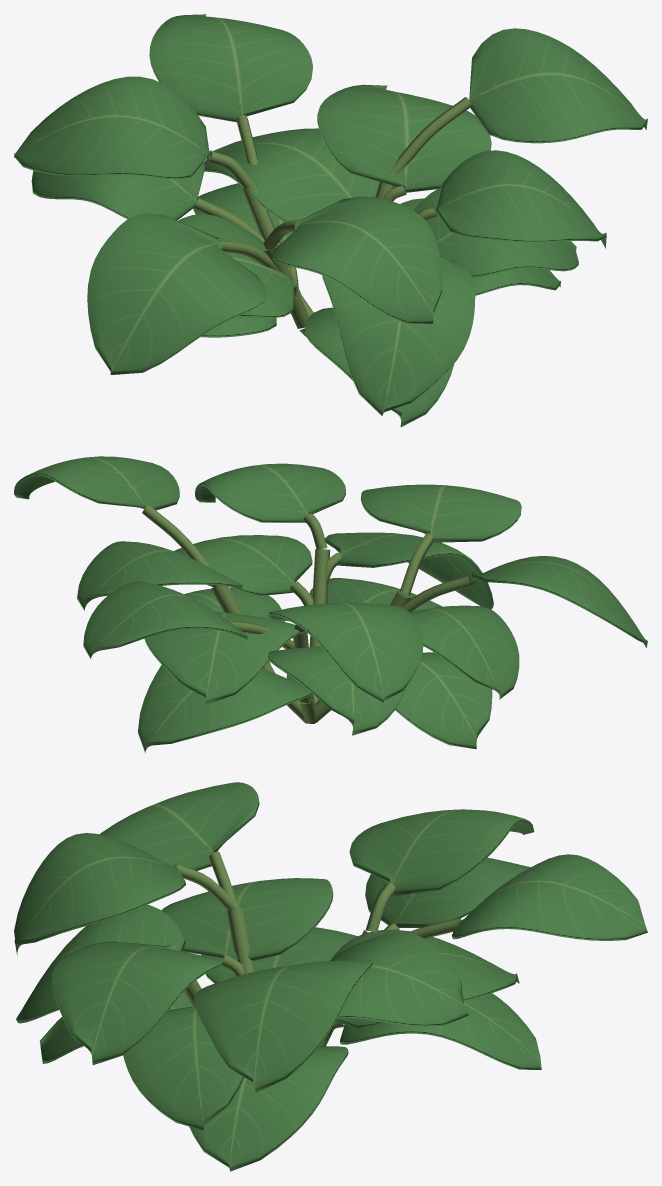
The model's file is peperomia-stage-4.glb.
3 views of the same model, one above another, from view 1: azimuth 30°, elevation 25°; view 2: azimuth 150°, elevation 25°; view 3: azimuth 270°, elevation 25° (orthographic). The views are drawn at different scales.
Visible parts, largest first — view 1: Leaf_11, Leaf_14, Leaf_13, Leaf_15, Leaf_10, Leaf_8, Leaf_9, Leaf_12, Leaf_5, PlantBranches, Leaf_6, Leaf_4 (+5 smaller); view 2: Leaf_14, Leaf_5, Leaf_2, Leaf_15, Leaf_12, PlantBranches, Leaf_7, Leaf_10, Leaf_3, Leaf_13, Leaf_9, Leaf_4 (+5 smaller); view 3: Leaf_13, Leaf_12, Leaf_15, Leaf_10, Leaf_14, Leaf_7, Leaf_9, Leaf_4, Leaf_1, Leaf_11, Leaf_2, Leaf_6 (+5 smaller).
Boxes of the visible parts, box(x1,y1,x2,y2) form: Leaf_11: box(87, 213, 266, 374); Leaf_14: box(14, 76, 211, 179); Leaf_13: box(469, 28, 647, 143); Leaf_15: box(272, 196, 442, 323); Leaf_10: box(149, 14, 312, 122); Leaf_8: box(322, 256, 475, 415); Leaf_9: box(317, 84, 491, 192); Leaf_12: box(436, 150, 606, 248); Leaf_5: box(204, 128, 379, 228); PlantBranches: box(194, 97, 471, 336); Leaf_6: box(31, 162, 205, 220); Leaf_4: box(413, 187, 578, 277); Leaf_14: box(268, 602, 423, 702); Leaf_5: box(144, 612, 304, 704); Leaf_2: box(138, 665, 311, 752); Leaf_15: box(360, 484, 521, 542); Leaf_12: box(195, 463, 345, 522); PlantBranches: box(142, 505, 472, 723); Leaf_7: box(409, 605, 519, 699); Leaf_10: box(83, 581, 247, 658); Leaf_3: box(395, 652, 492, 749); Leaf_13: box(14, 456, 179, 510); Leaf_9: box(77, 541, 242, 610); Leaf_4: box(174, 535, 312, 595); Leaf_13: box(194, 959, 372, 1092); Leaf_12: box(52, 941, 222, 1064); Leaf_15: box(14, 833, 185, 955); Leaf_10: box(451, 854, 647, 940); Leaf_14: box(349, 809, 534, 895); Leaf_7: box(161, 878, 333, 960); Leaf_9: box(330, 932, 468, 1026); Leaf_4: box(123, 1006, 244, 1130); Leaf_1: box(189, 1046, 348, 1171); Leaf_11: box(100, 782, 259, 870); Leaf_2: box(340, 993, 541, 1069); Leaf_6: box(365, 857, 530, 927).
Size of the model in its own units: 2.04 by 0.7734 by 1.8.
Materials: 2 (1 with a texture image).
